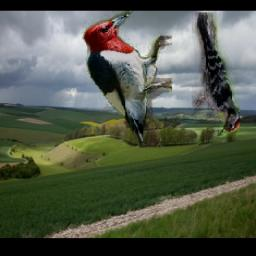Woodpecker: (83, 11, 173, 148), (192, 12, 240, 137)
